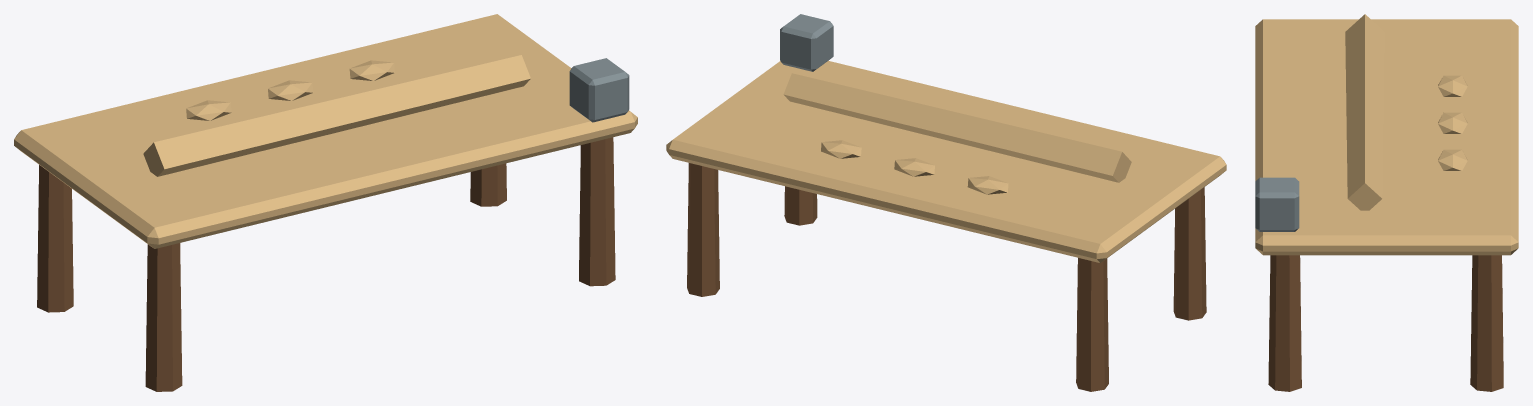
File: CC_Carpentry.fbx
3 views of the same model, side by side, from view 1: azimuth 30°, elevation 25°; view 2: azimuth 150°, elevation 25°; view 3: azimuth 270°, elevation 25° (orthographic). The views are drawn at different scales.
Parts seen in each view (by area): view 1: Top.002, Plank on bench, Leg.060, Leg.062, Leg.061, Vice, Leg.063, Shavings, Shavings.001, Shavings.002; view 2: Top.002, Plank on bench, Leg.061, Leg.063, Leg.060, Vice, Leg.062, Shavings.001, Shavings.002, Shavings; view 3: Top.002, Plank on bench, Leg.062, Leg.063, Vice, Shavings, Shavings.001, Shavings.002.
Part boxes in pixels (x1,y1,x2,y2): Top.002: (14, 14, 637, 248); Plank on bench: (143, 55, 530, 176); Leg.060: (145, 243, 182, 391); Leg.062: (579, 137, 615, 286); Leg.061: (37, 165, 73, 312); Vice: (569, 58, 629, 122); Leg.063: (470, 163, 506, 206); Shavings: (186, 100, 231, 120); Shavings.001: (268, 80, 313, 100); Shavings.002: (349, 60, 394, 80); Top.002: (666, 61, 1226, 262); Plank on bench: (783, 73, 1131, 182); Leg.061: (1076, 258, 1108, 391); Leg.063: (687, 163, 719, 296); Leg.060: (1173, 187, 1206, 320); Vice: (780, 14, 833, 71); Leg.062: (784, 186, 817, 225); Shavings.001: (894, 158, 934, 176); Shavings.002: (821, 140, 861, 158); Shavings: (967, 176, 1008, 194); Top.002: (1255, 19, 1518, 255); Plank on bench: (1345, 14, 1384, 210); Leg.062: (1268, 255, 1301, 391); Leg.063: (1470, 255, 1503, 391); Vice: (1255, 177, 1299, 231); Shavings: (1438, 75, 1467, 96); Shavings.001: (1438, 112, 1467, 133); Shavings.002: (1438, 149, 1467, 170).
Bounding box in the file's own units: 2.4 × 1 × 1.2.
